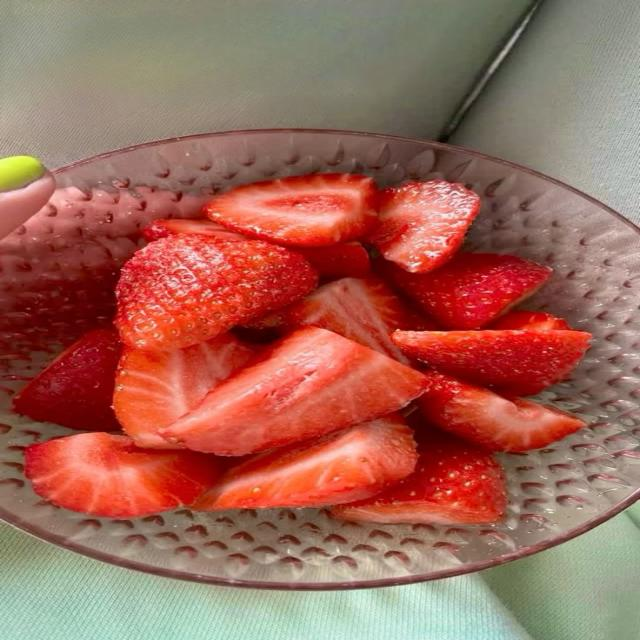strawberry sliced: (160, 327, 426, 455), (116, 235, 316, 349), (194, 415, 417, 510), (25, 433, 219, 518), (334, 431, 506, 524), (114, 334, 253, 448), (259, 276, 415, 363), (418, 371, 585, 451), (378, 253, 552, 329), (392, 330, 592, 395), (203, 174, 376, 246), (14, 330, 120, 430), (369, 180, 480, 273), (297, 242, 370, 278), (141, 219, 246, 242), (141, 219, 247, 241), (490, 310, 571, 331)
